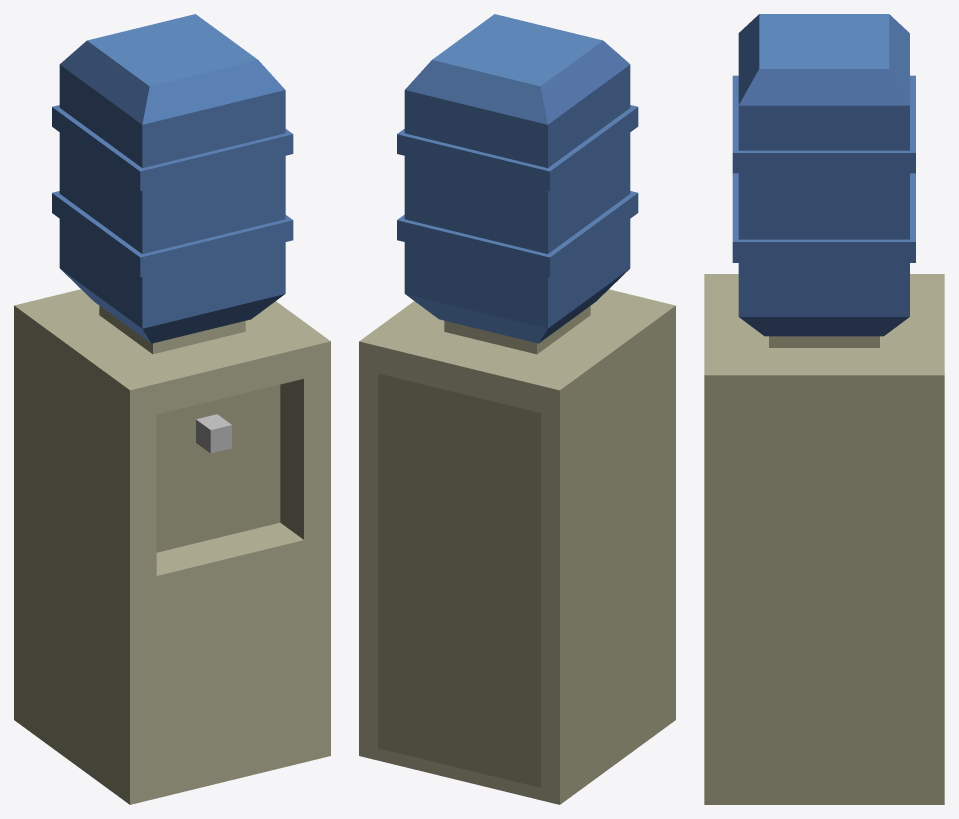
File: SO_WaterCooler_02.fbx
3 renders of one model, left to right at view 1: azimuth 30°, elevation 25°; view 2: azimuth 150°, elevation 25°; view 3: azimuth 270°, elevation 25°, orthographic. The views are drawn at different scales.
Visible parts, largest first — view 1: SO_WaterCooler_02; view 2: SO_WaterCooler_02; view 3: SO_WaterCooler_02.
Part boxes in pixels (<box>): SO_WaterCooler_02: <box>14,14,330,804</box>; SO_WaterCooler_02: <box>359,14,675,804</box>; SO_WaterCooler_02: <box>704,14,944,804</box>.
Bounding box in the file's own units: 0.8007 × 2.62 × 0.8007.
